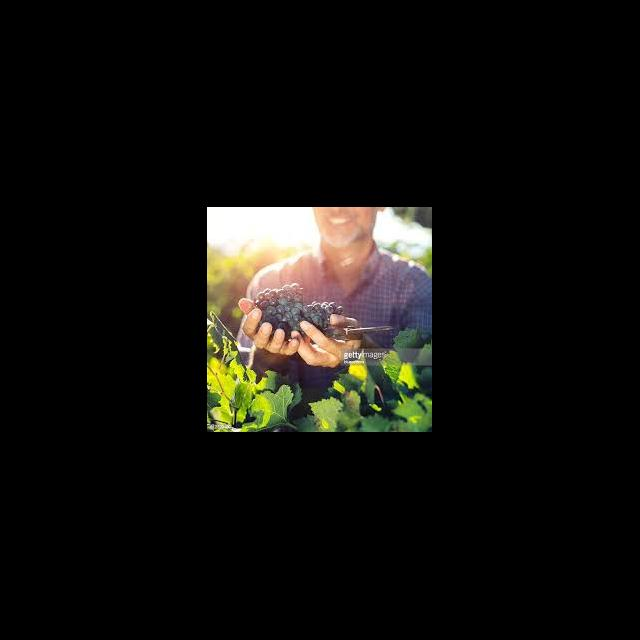grape: (252, 282, 344, 340)
